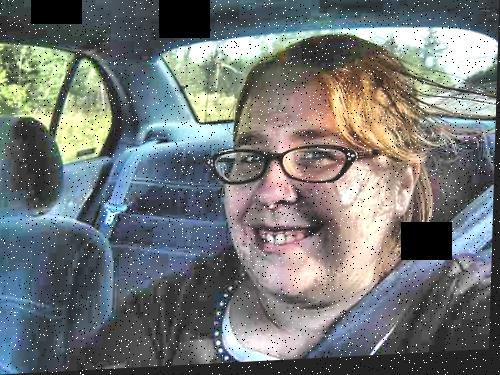seatbelt: (316, 207, 485, 340), (88, 140, 147, 238)
